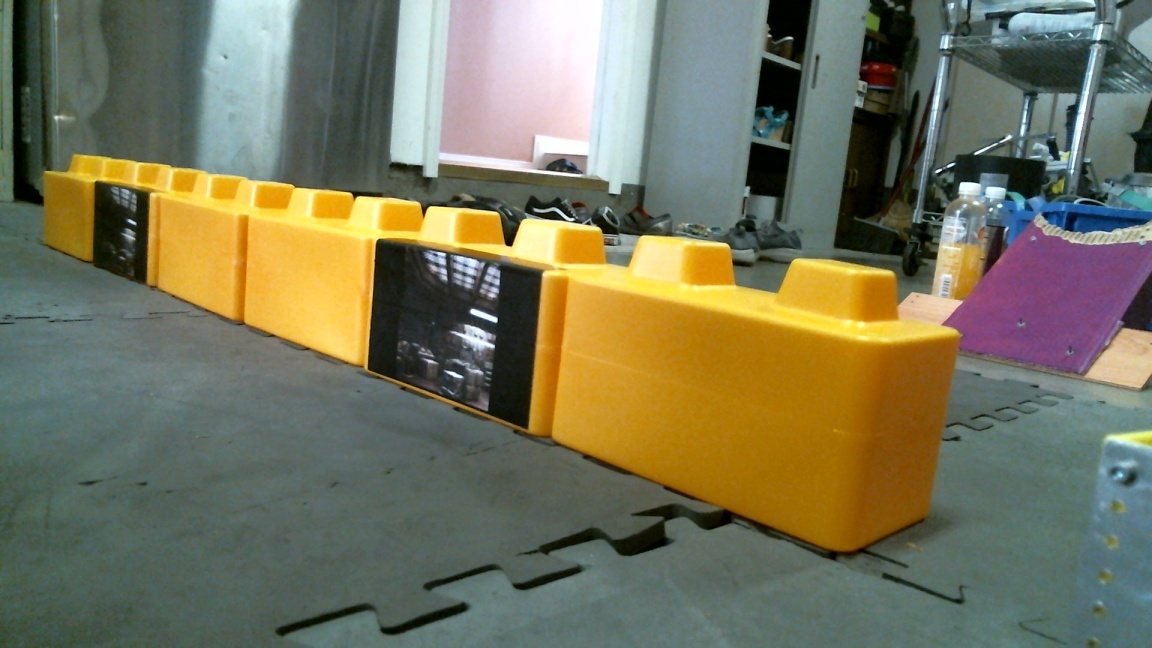center: (251, 192, 940, 559), (43, 157, 241, 332)
left: (92, 161, 366, 368)
right: (161, 167, 555, 435)
